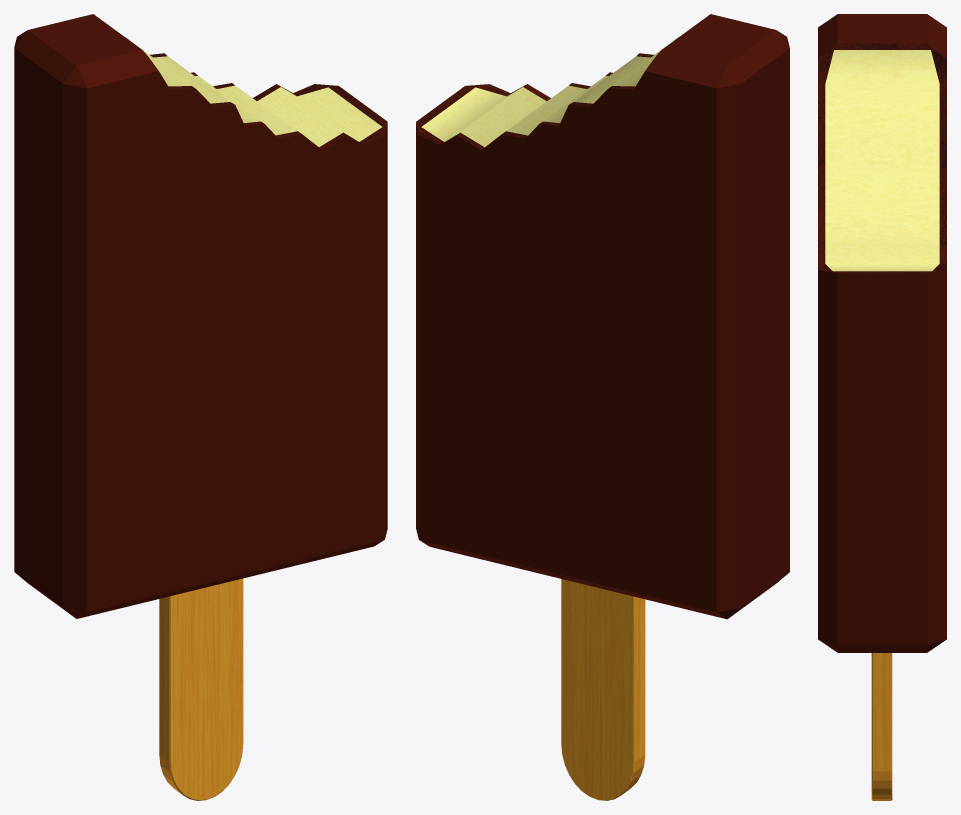
Rendered from icecream.FBX.
The picture shows the model from 3 angles, left to right: view 1: azimuth 30°, elevation 25°; view 2: azimuth 150°, elevation 25°; view 3: azimuth 270°, elevation 25°; orthographic projection. The views are drawn at different scales.
Parts seen in each view (by area): view 1: Line01, Rectangle01; view 2: Line01, Rectangle01; view 3: Line01, Rectangle01.
Boxes of the visible parts, left/top/right/bottom form: Line01: left=14, top=14, right=387, bottom=618; Rectangle01: left=159, top=578, right=243, bottom=800; Line01: left=416, top=14, right=789, bottom=619; Rectangle01: left=561, top=579, right=645, bottom=800; Line01: left=818, top=14, right=946, bottom=652; Rectangle01: left=871, top=653, right=892, bottom=800.
Bounding box in the file's own units: 30.02 × 69.3 × 11.28.
